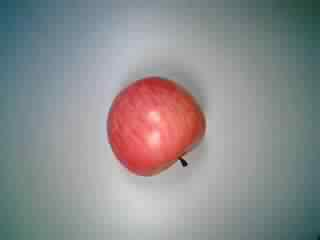apple: (106, 75, 211, 177)
